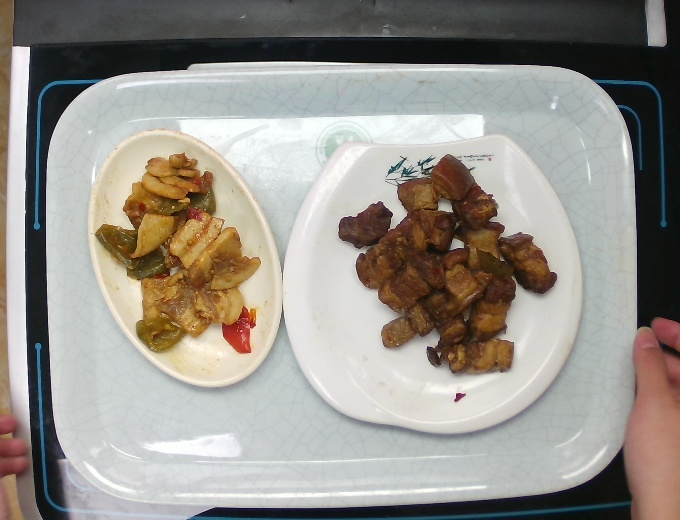JYsf-Mian_Pan: (276, 128, 588, 439)
JYsf-Tuo_Yuan_Wan: (78, 122, 288, 395)
